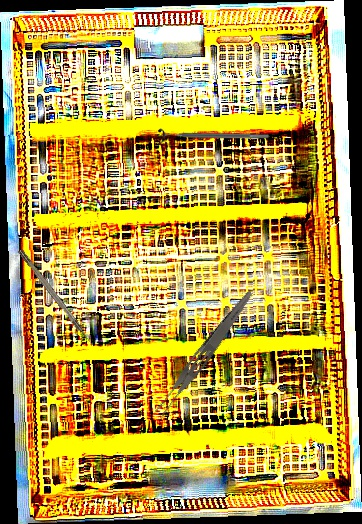Dressing Forceps: (151, 285, 256, 422)
Fixation Ring: (158, 128, 269, 145)
Hook Surgical: (17, 248, 95, 347)
